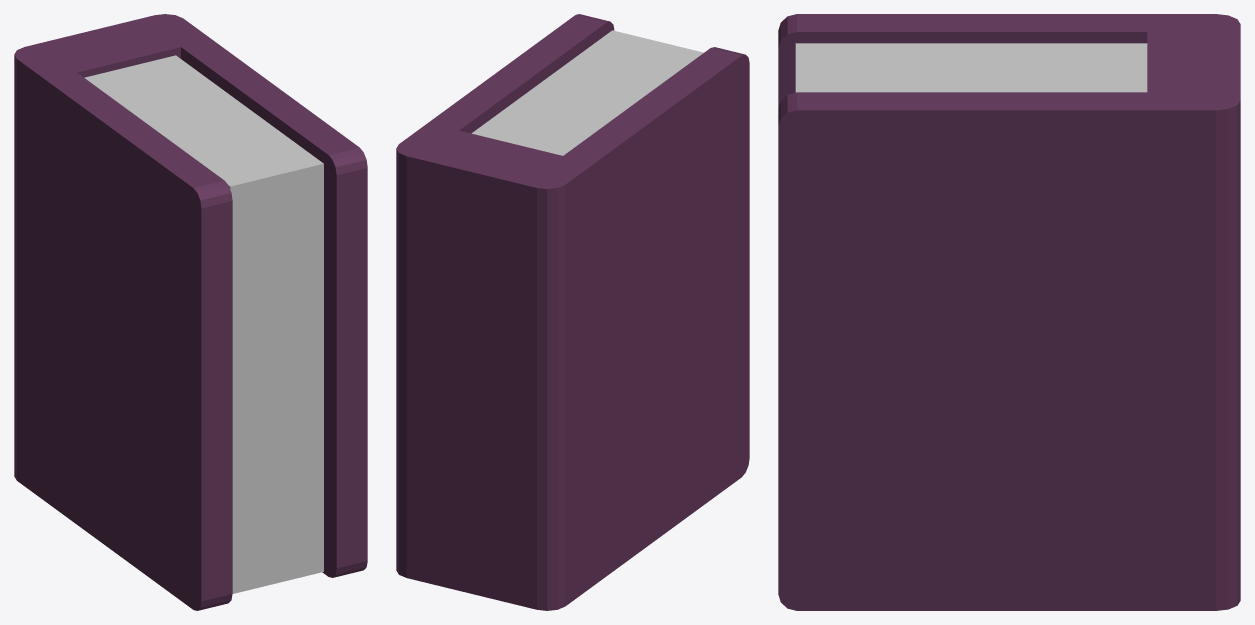
The model's file is kirja3_GJ22.fbx.
3 views of the same model, side by side, from view 1: azimuth 30°, elevation 25°; view 2: azimuth 150°, elevation 25°; view 3: azimuth 270°, elevation 25° (orthographic). The views are drawn at different scales.
Visible parts, largest first — view 1: kirja; view 2: kirja; view 3: kirja.
Part boxes in pixels (<box>): kirja: <box>14,14,367,610</box>; kirja: <box>396,14,749,610</box>; kirja: <box>778,14,1240,610</box>.
Size of the model in its own units: 12.38 by 30 by 25.12.
